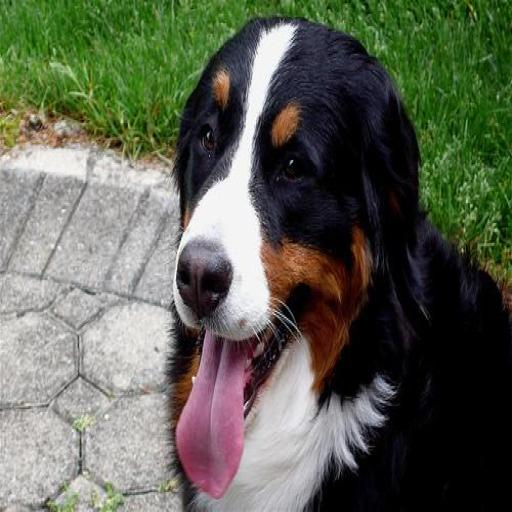dog_face: (168, 37, 395, 420)
